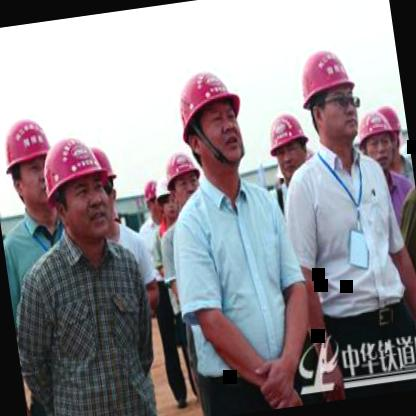helmet: (33, 133, 114, 248), (172, 59, 250, 178), (298, 42, 364, 153), (0, 114, 61, 223), (260, 107, 318, 185), (352, 103, 400, 176), (88, 140, 124, 222), (161, 149, 205, 213), (379, 96, 410, 166), (149, 166, 181, 223), (140, 178, 166, 226)
